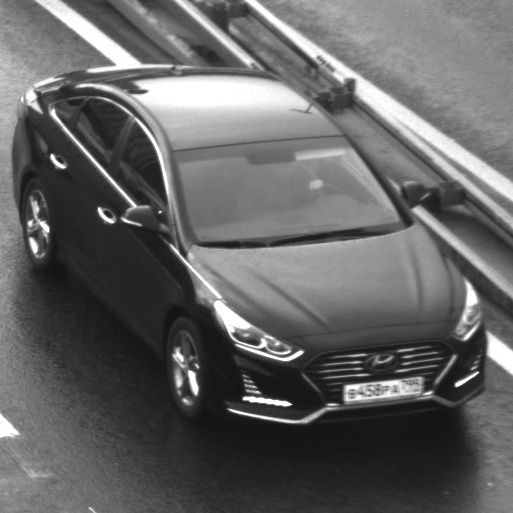plate: (327, 364, 436, 410)
